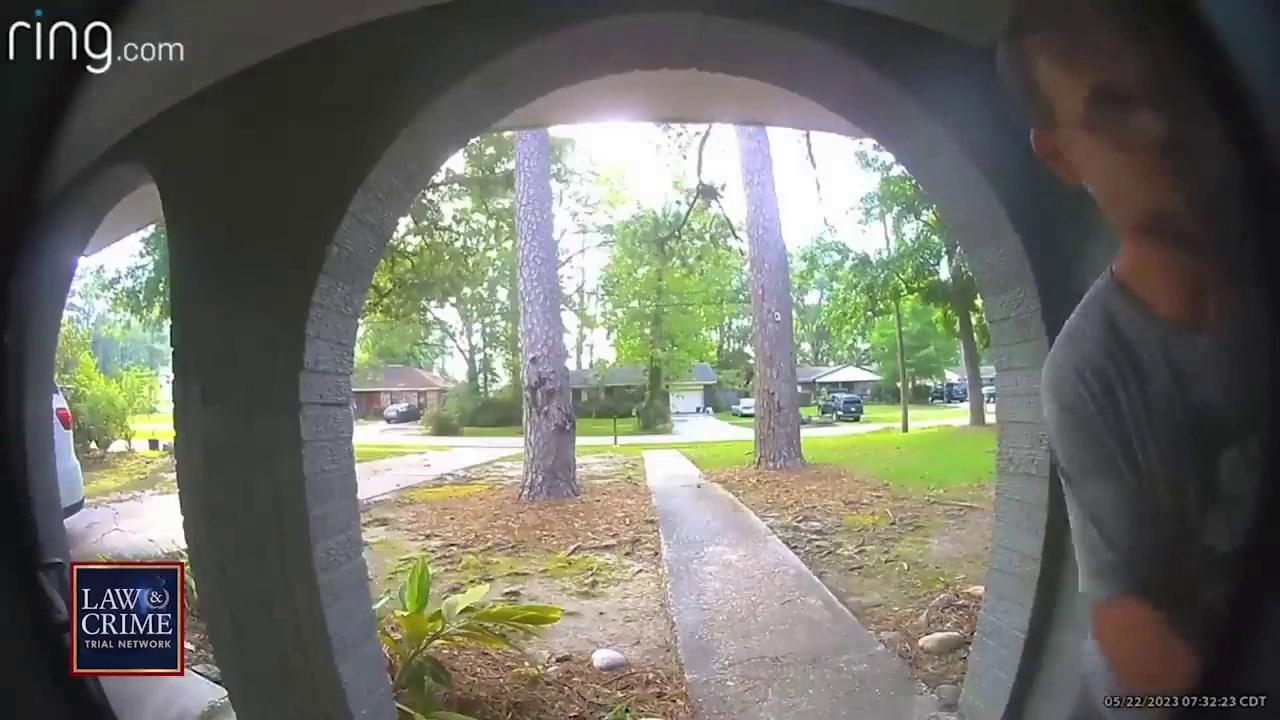suspicion: (976, 0, 1280, 720)
